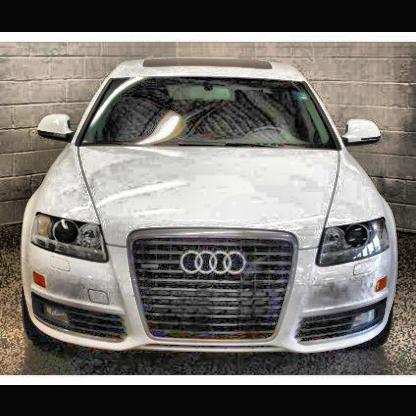Audi S6 Sedan 2011: (23, 56, 400, 364)
